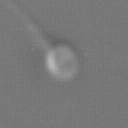normal: (1, 1, 52, 49)
